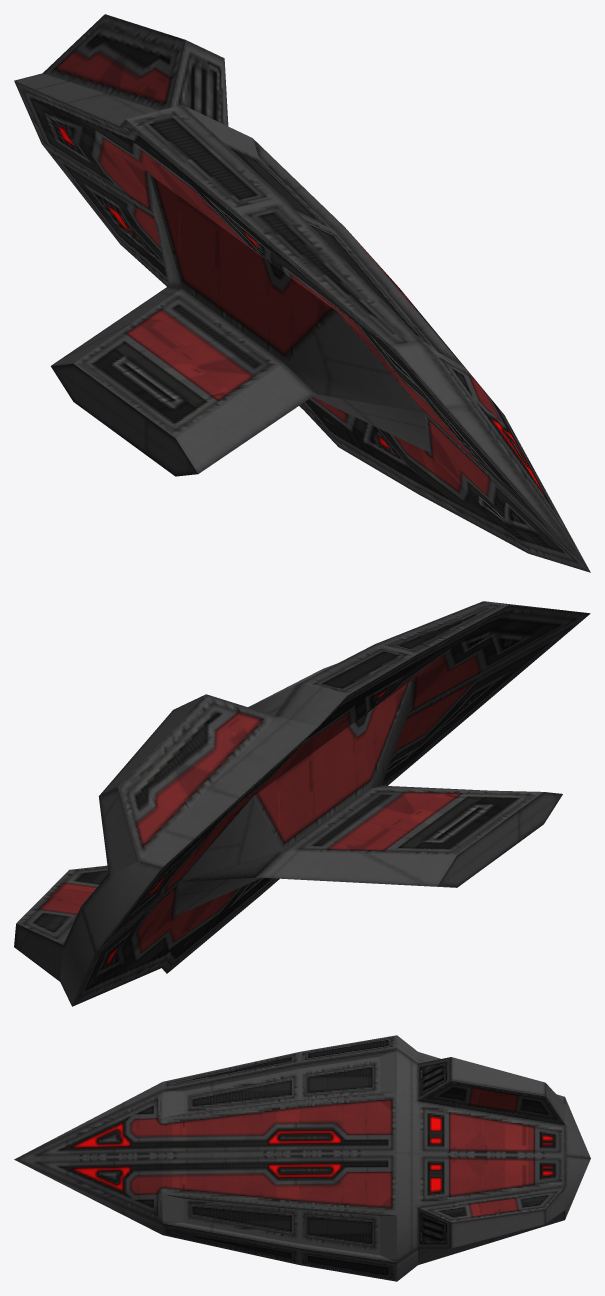
Rendered from BFP_WingShield_Left.FBX.
3 renders of one model, top to bottom at view 1: azimuth 30°, elevation 25°; view 2: azimuth 150°, elevation 25°; view 3: azimuth 270°, elevation 25°, orthographic. The views are drawn at different scales.
Visible parts, largest first — view 1: BFP_WingShield_Left; view 2: BFP_WingShield_Left; view 3: BFP_WingShield_Left.
Boxes of the visible parts, x1,y1,x2,y2 form: BFP_WingShield_Left: (14,14,590,572); BFP_WingShield_Left: (14,601,590,1006); BFP_WingShield_Left: (14,1035,590,1281).
Size of the model in its own units: 1010 by 1026 by 2682.
Materials: 1 (1 with a texture image).
